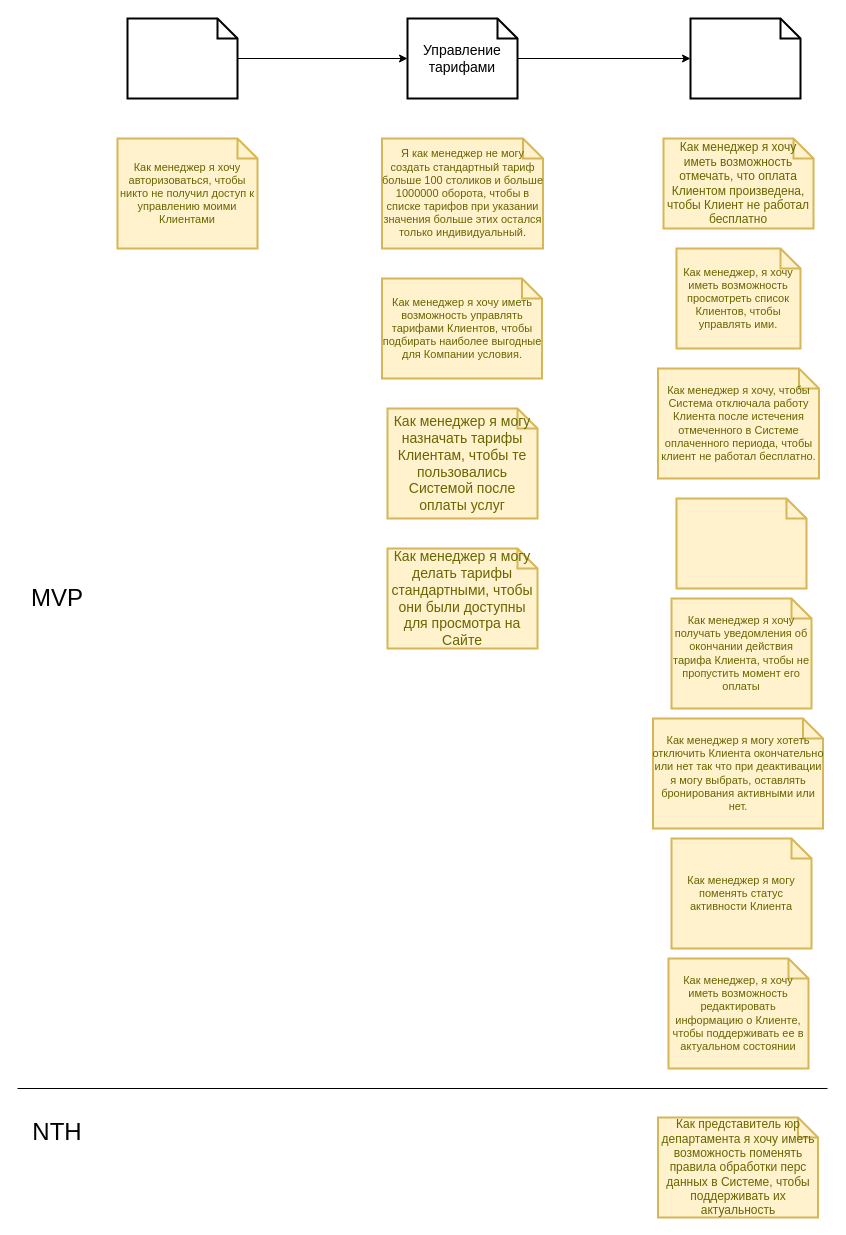
Some shapes in this 846 by 1235 pixel diagram are drawn without their labels. Each missing label, with the centre of its shape:
Авторизация: the point at 182,58
Как менеджер, я хочу посмотреть УЗ Клиента, чтобы узнать о нем информацию: the point at 741,543
Управление клиентами: the point at 745,58
